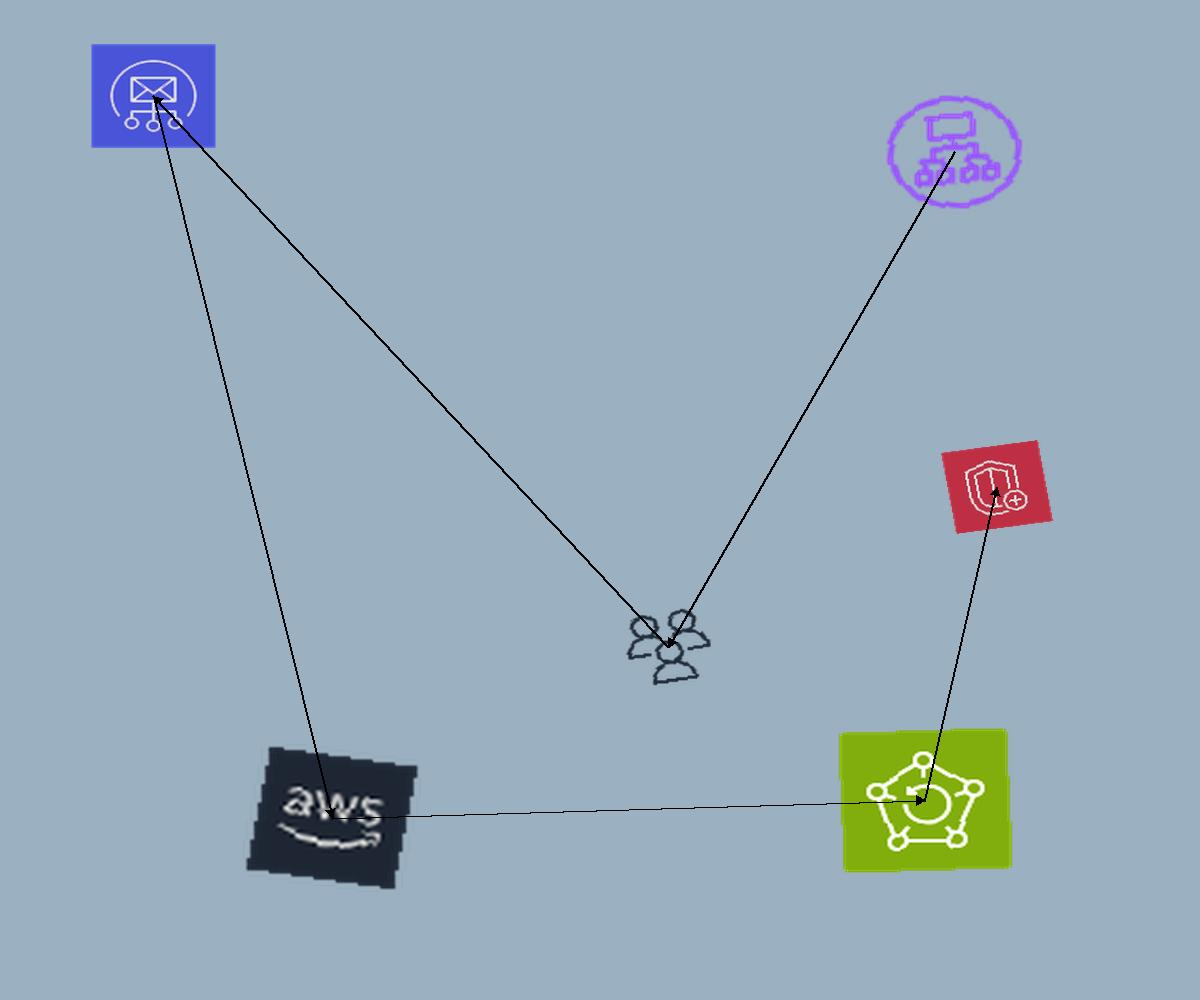AWS-Backup: (837, 727, 1014, 874)
AWS-Cloud-logo: (243, 744, 421, 892)
AWS-Res_Elastic-Load-Balancing_Application-Load-Balancer: (872, 83, 1037, 221)
AWS-Res_Users: (613, 601, 724, 693)
AWS-Shield: (941, 440, 1053, 534)
AWS-Simple-Email-Service: (90, 43, 217, 149)
